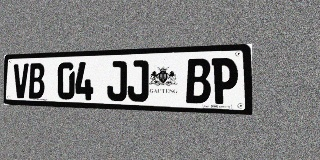0: (57, 62, 75, 100)
4: (75, 62, 93, 100)
B: (186, 58, 211, 104), (29, 63, 45, 99)
J: (127, 60, 149, 102), (107, 61, 127, 101)
P: (212, 58, 238, 104)
V: (13, 63, 29, 98)
